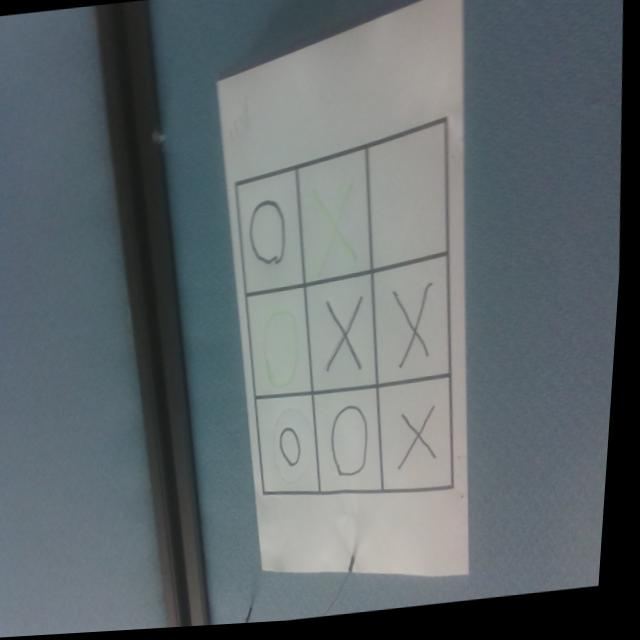null: (364, 125, 459, 275)
o: (260, 303, 308, 398), (332, 408, 378, 486), (249, 202, 292, 273), (283, 427, 310, 473)
table: (214, 106, 482, 515)
x: (307, 185, 369, 276), (395, 289, 439, 373), (327, 300, 371, 377), (402, 410, 446, 475)
